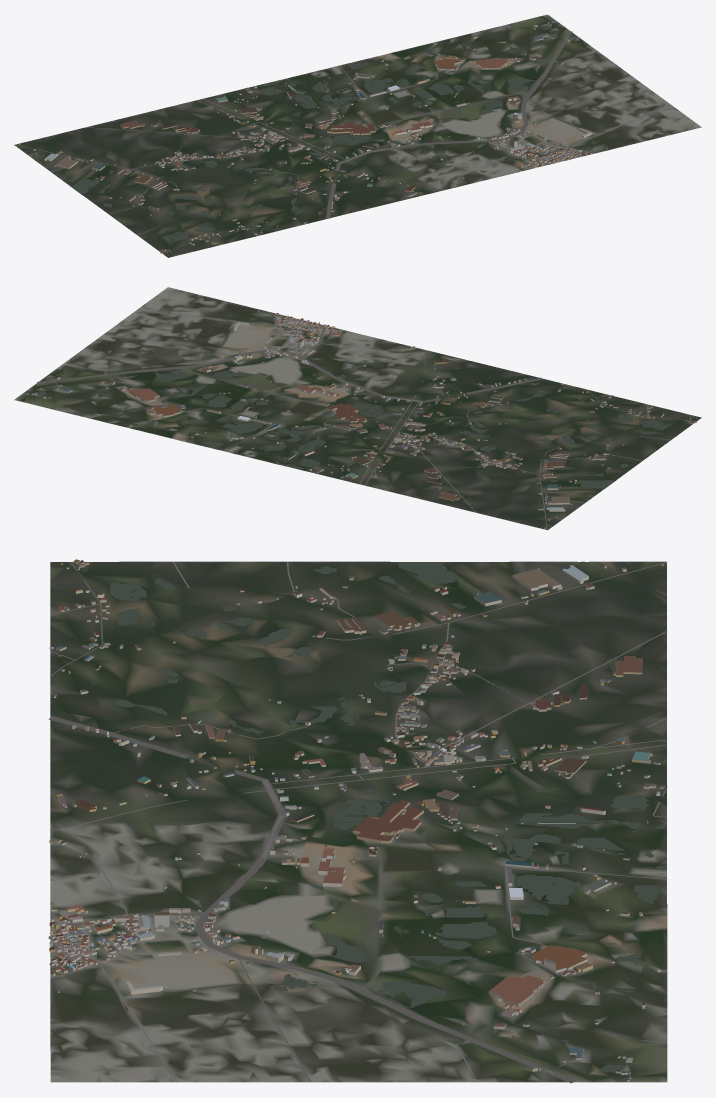
3 views of the same model, one above another, from view 1: azimuth 30°, elevation 25°; view 2: azimuth 150°, elevation 25°; view 3: azimuth 270°, elevation 25° (orthographic). The views are drawn at different scales.
Parts seen in each view (by area): view 1: ground, buildings, water, roads; view 2: ground, buildings, water, roads; view 3: ground, buildings, water, roads.
Part boxes in pixels (x1,y1,x2,y2): ground: [14, 14, 701, 257]; buildings: [19, 21, 607, 255]; water: [35, 26, 582, 241]; roads: [15, 24, 669, 253]; ground: [14, 287, 701, 530]; buildings: [24, 310, 697, 528]; water: [38, 351, 664, 514]; roads: [37, 310, 696, 529]; ground: [50, 561, 667, 1082]; buildings: [48, 559, 664, 1081]; water: [90, 561, 666, 1072]; roads: [48, 561, 667, 1083].
Size of the model in its own units: 2816 by 37.3 by 1409.
